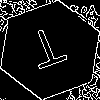T: (25, 25, 73, 78)
